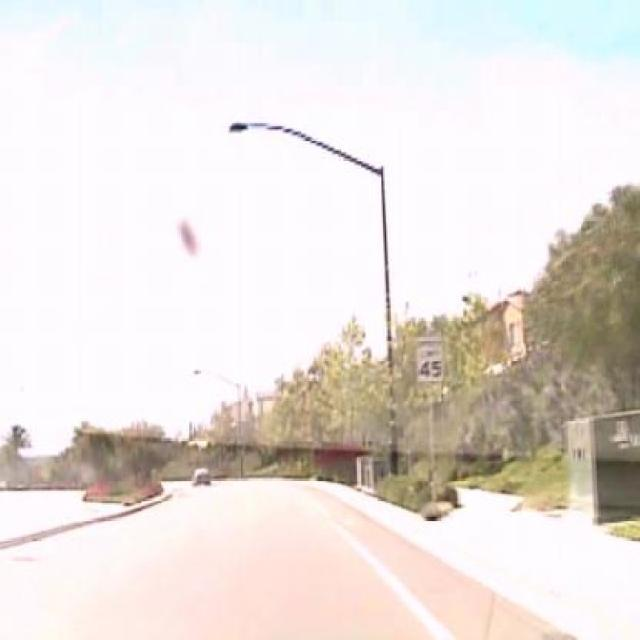speedLimit45: (416, 334, 444, 381)
